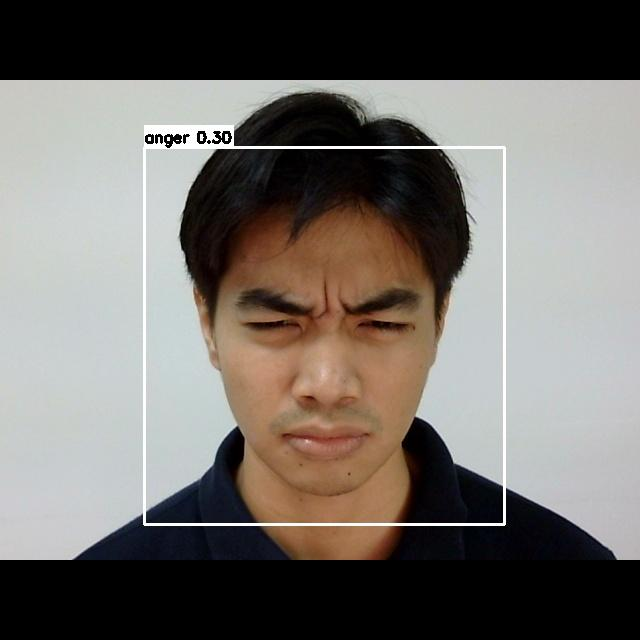Angry: (208, 246, 440, 471)
